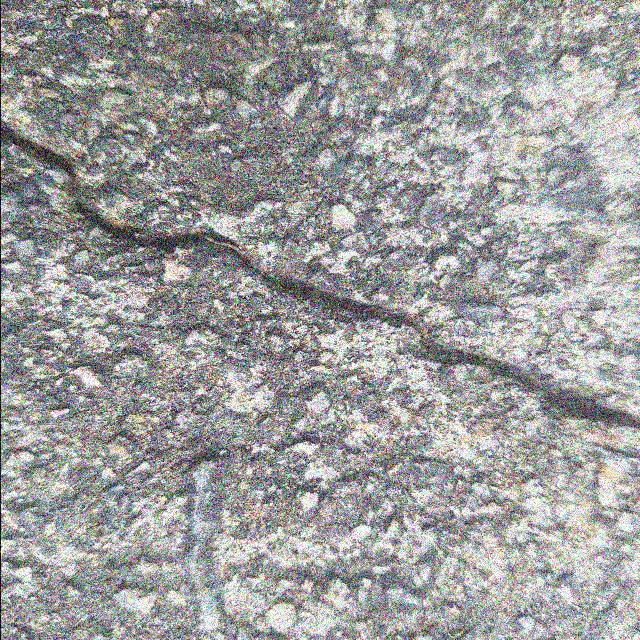SurfaceCrack: (2, 74, 637, 549)
